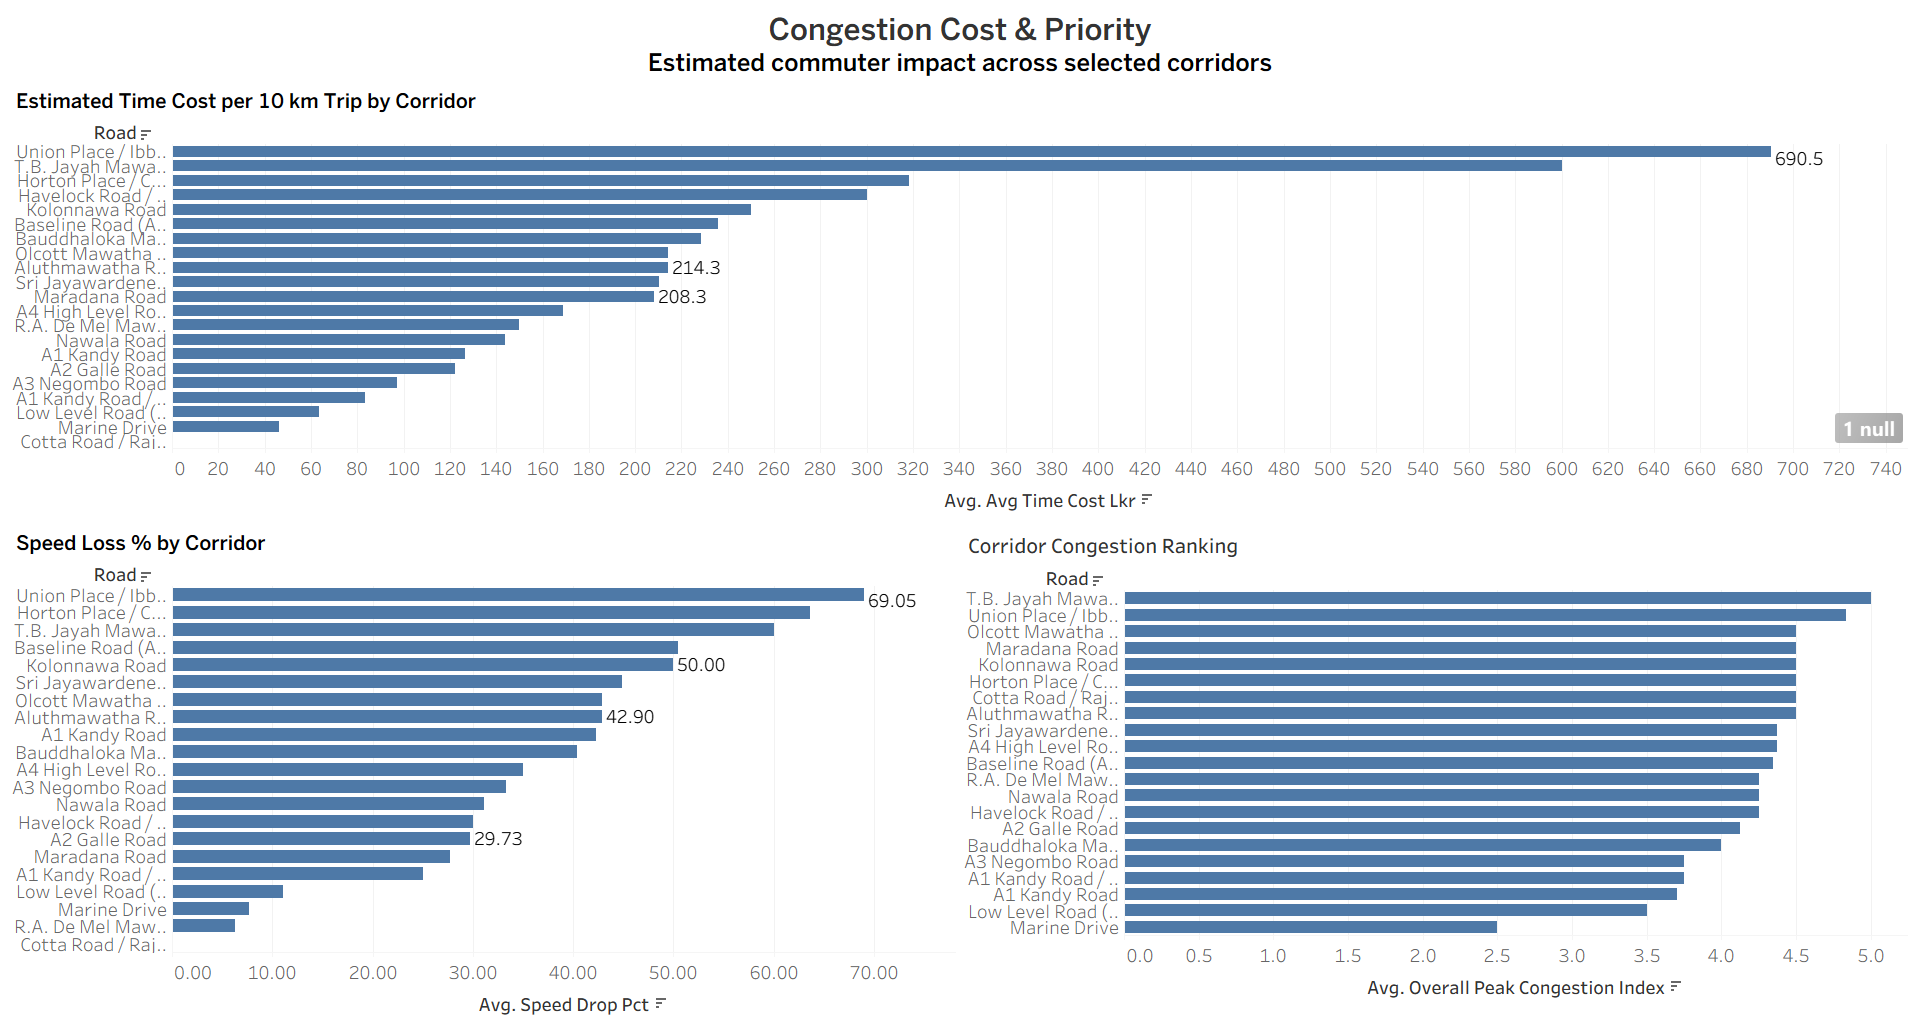

This screenshot's page, from the dashboard's own definition file:
{"tool":"tableau","page":{"name":"Congestion Cost & Priority","canvas":[1000,1000],"units":"permille","ordinal":2},"visuals":[{"type":"title","box":[5,9.8,990,83.1]},{"type":"worksheet","title":"Estimated Congestion Cost by Corridor","mark":"Automatic","rows":["road"],"cols":["avg_time_cost_lkr"],"box":[5,92.9,990,419.6]},{"type":"worksheet","title":"Speed Loss % by Corridor","mark":"Bar","rows":["road"],"cols":["speed_drop_pct"],"box":[5,512.5,495,477.7]},{"type":"worksheet","title":"Corridor Congestion Ranking","mark":"Automatic","rows":["road"],"cols":["overall_peak_congestion_index"],"box":[500,512.5,495,477.7]}]}

Visuals, with their boxes on the dashboard's canvas, which has no fixed pixel size, in thousandths of its width and height (x1, y1, x2, y2). These are canvas units, not pixel positions in the 1920x1027 screenshot, which may show the page scaled, cropped or inside an application window:
title: left=5, top=10, right=995, bottom=93
"Estimated Congestion Cost by Corridor" worksheet: left=5, top=93, right=995, bottom=512
"Speed Loss % by Corridor" worksheet (Bar marks): left=5, top=512, right=500, bottom=990
"Corridor Congestion Ranking" worksheet: left=500, top=512, right=995, bottom=990
